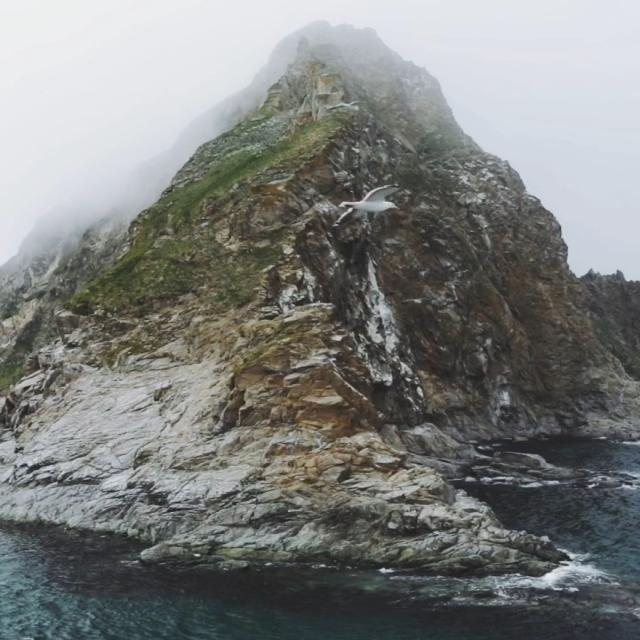bird: (316, 173, 404, 243), (318, 89, 375, 121)
